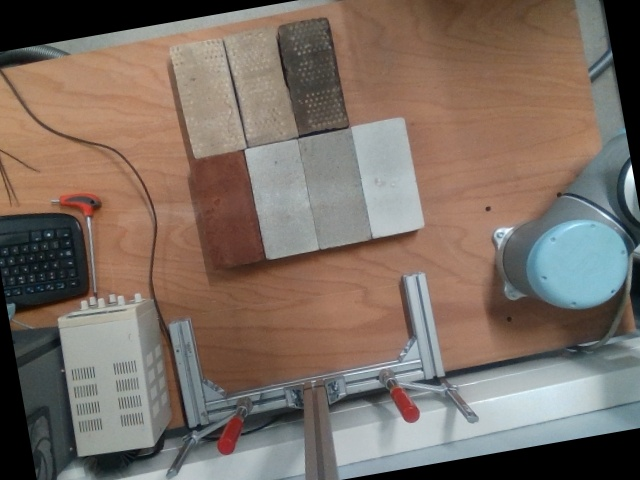brick: (172, 39, 244, 157), (246, 140, 316, 257), (299, 130, 369, 246), (190, 155, 261, 266), (278, 19, 346, 132), (227, 28, 294, 142), (355, 121, 421, 232)
